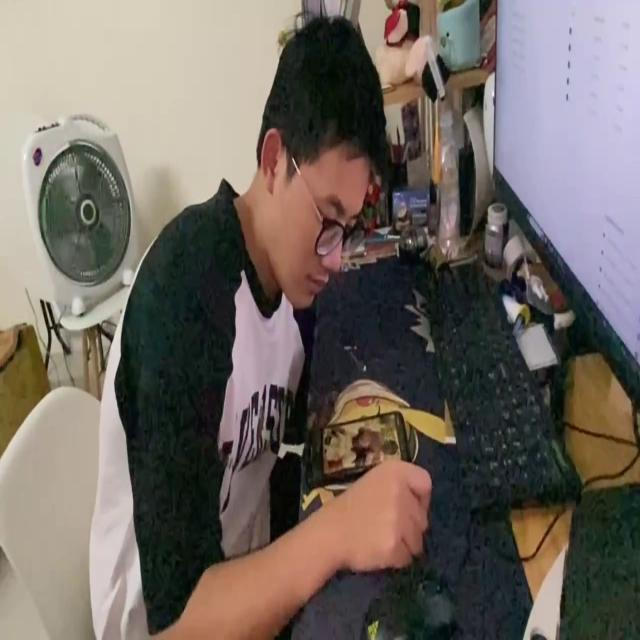laptop: (491, 0, 640, 412)
phone: (298, 410, 411, 484)
student: (91, 15, 432, 638)
